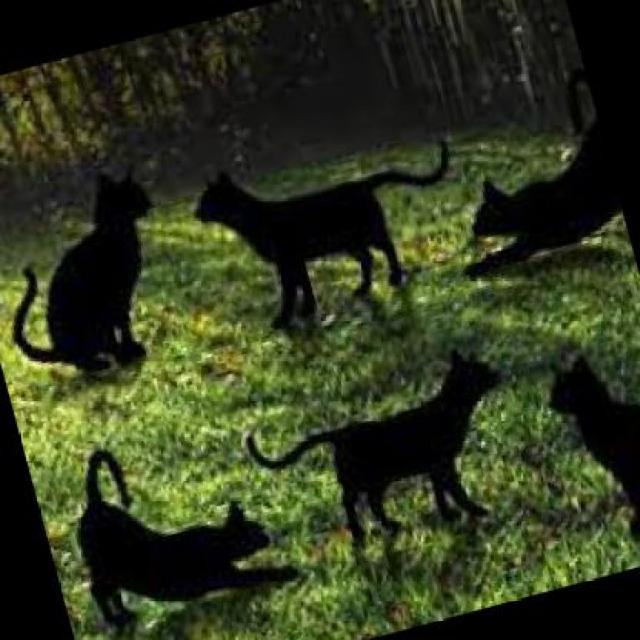animals: (182, 106, 496, 363), (229, 332, 543, 576), (52, 408, 300, 638), (0, 160, 203, 402), (430, 67, 632, 299), (523, 328, 639, 564)
